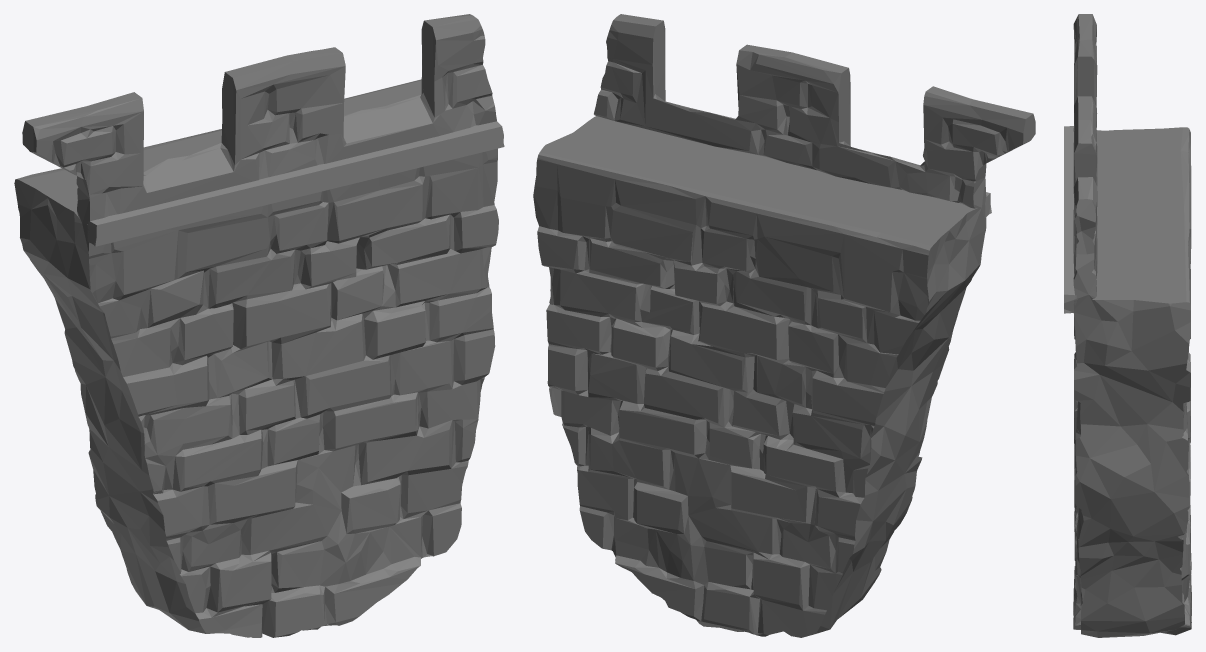
Rendered from castle_battlement_c2_destroyed_part.FBX.
3 views of the same model, side by side, from view 1: azimuth 30°, elevation 25°; view 2: azimuth 150°, elevation 25°; view 3: azimuth 270°, elevation 25° (orthographic). The views are drawn at different scales.
Parts seen in each view (by area): view 1: castle_battlement_c2_destroyed_part; view 2: castle_battlement_c2_destroyed_part; view 3: castle_battlement_c2_destroyed_part.
Boxes of the visible parts, bbox=[...] form: castle_battlement_c2_destroyed_part: bbox=[14, 14, 504, 637]; castle_battlement_c2_destroyed_part: bbox=[533, 14, 1035, 637]; castle_battlement_c2_destroyed_part: bbox=[1064, 14, 1191, 637].
Size of the model in its own units: 7.92 by 9.31 by 2.18.
